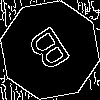B: (25, 25, 79, 81)
